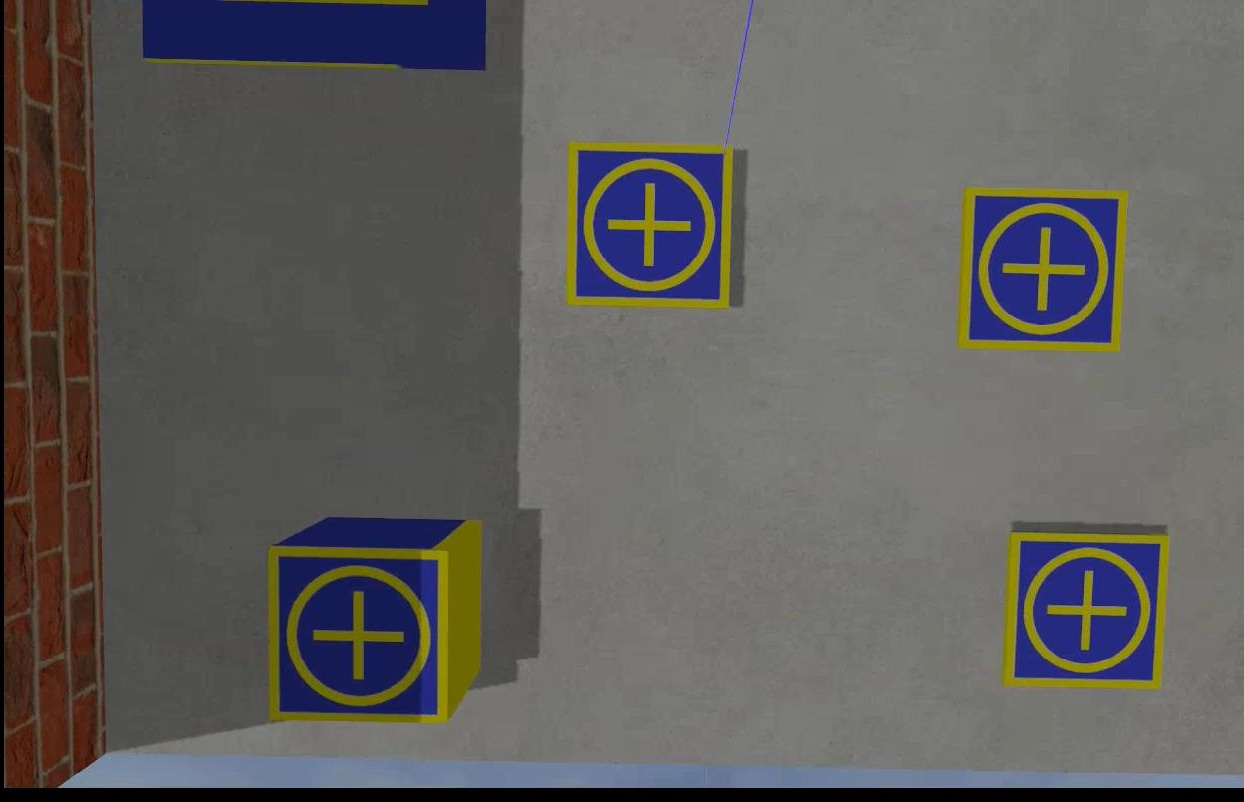small_base: (263, 544, 452, 725), (954, 184, 1125, 355), (560, 143, 735, 308), (1004, 528, 1169, 689)
